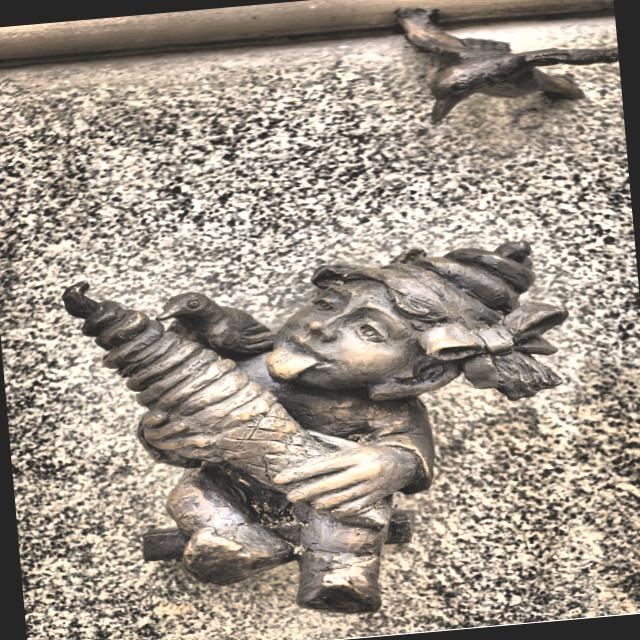Dziupelka: (60, 245, 568, 616), (396, 7, 619, 123)
